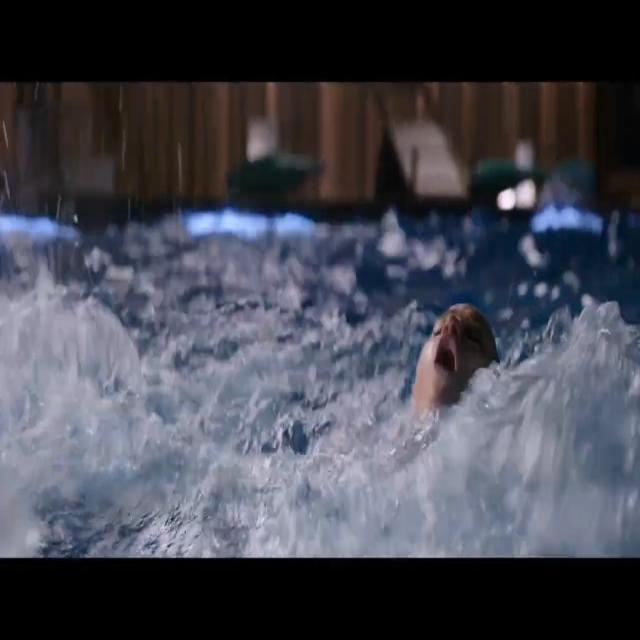Drowning: (372, 298, 515, 418)
